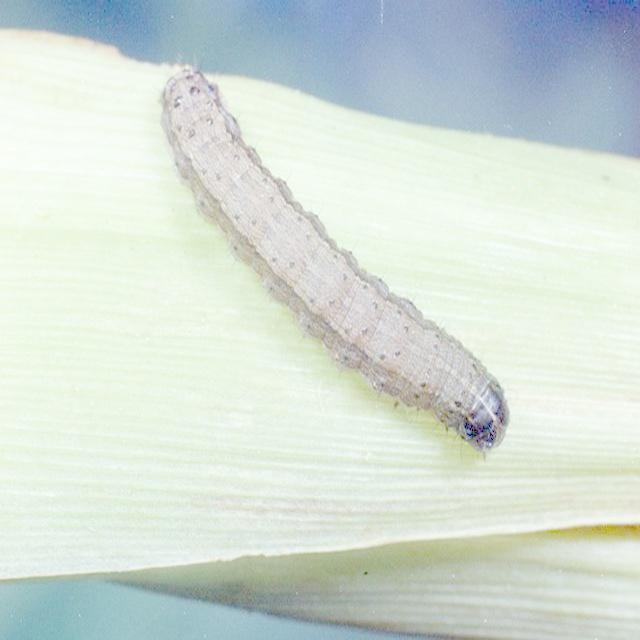gusano_cogollero: (156, 60, 514, 460)
